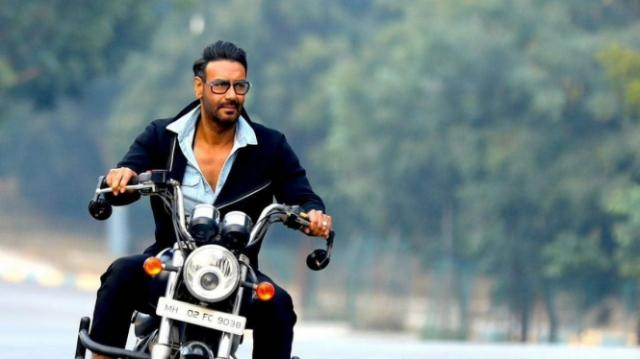motor: (71, 175, 336, 359)
non-helm: (195, 41, 252, 128)
